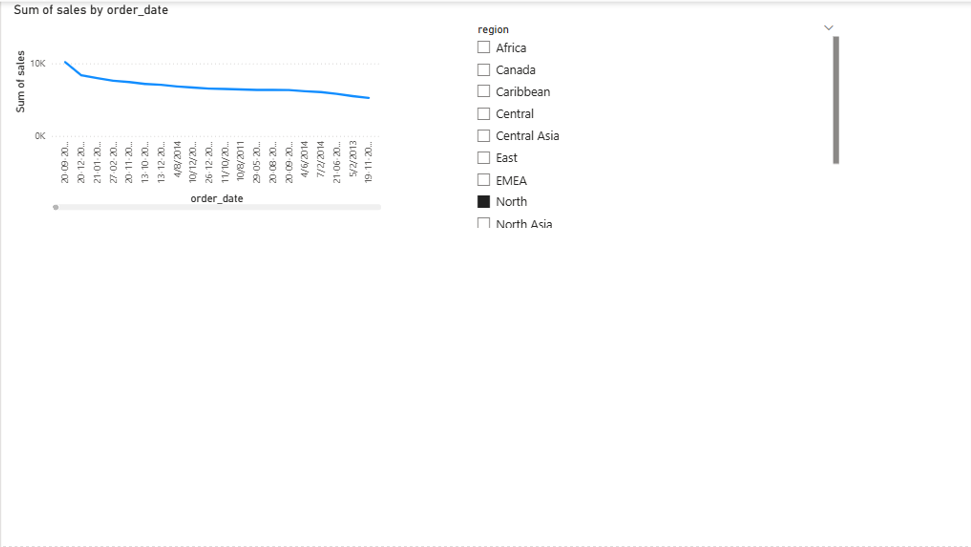

Layout of this report page (visuals, bound fields, positions):
{"tool":"powerbi","page":{"name":"Page 3","canvas":[1280,720],"ordinal":2},"visuals":[{"type":"lineChart","fields":{"Category":["SuperStoreOrders.order_date"],"Y":["Sum(SuperStoreOrders.sales)"]},"box":[10.4,0,495.2,280],"z":0},{"type":"slicer","fields":{"Values":["SuperStoreOrders.region"]},"box":[616.7,23.3,495,280],"z":1000}]}

Visuals, with their boxes in screenshot pixels (x1, y1, x2, y2), scaled from the page's 1280x720 canvas onto the 971x547 screenshot:
lineChart - SuperStoreOrders.order_date x Sum(SuperStoreOrders.sales): [left=8, top=0, right=384, bottom=213]
slicer - SuperStoreOrders.region: [left=468, top=18, right=843, bottom=230]
